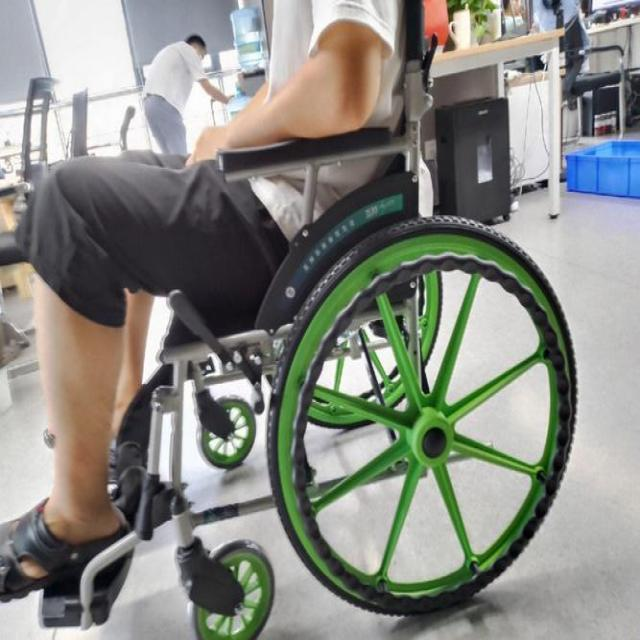wheelchairs: (19, 0, 590, 640)
